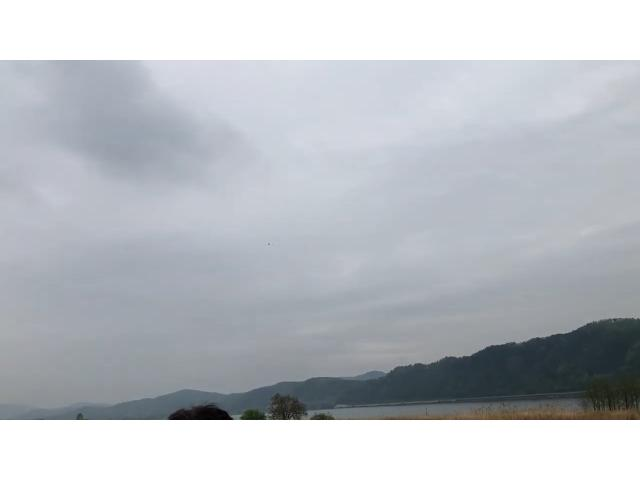Anti-Drone: (257, 235, 293, 257)
